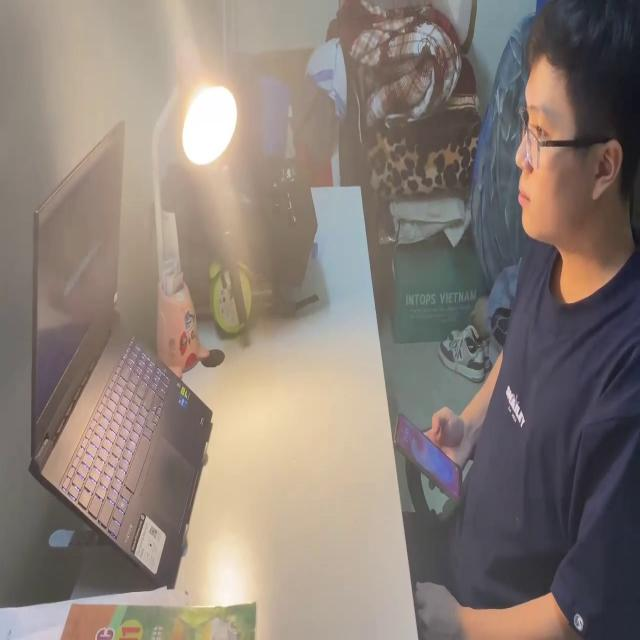book: (0, 584, 254, 640)
laptop: (22, 111, 213, 585)
phone: (391, 407, 465, 518)
student: (406, 0, 640, 640)
